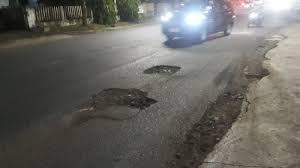Pothole: (166, 25, 283, 168), (68, 80, 155, 128), (139, 58, 185, 79)
